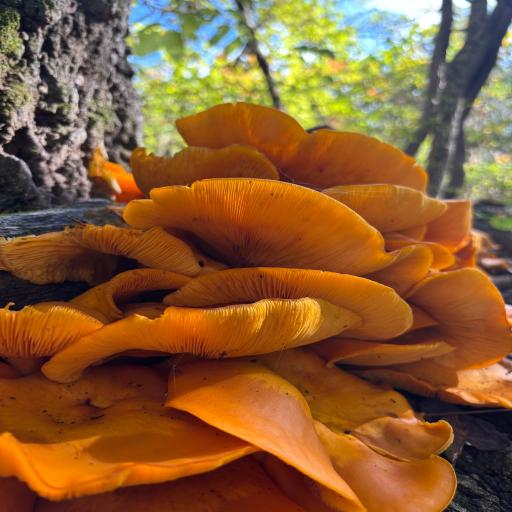Jack O Lantern Mushroom: (121, 97, 480, 289), (46, 267, 416, 386), (156, 347, 384, 512), (0, 360, 256, 493), (111, 175, 396, 282)
